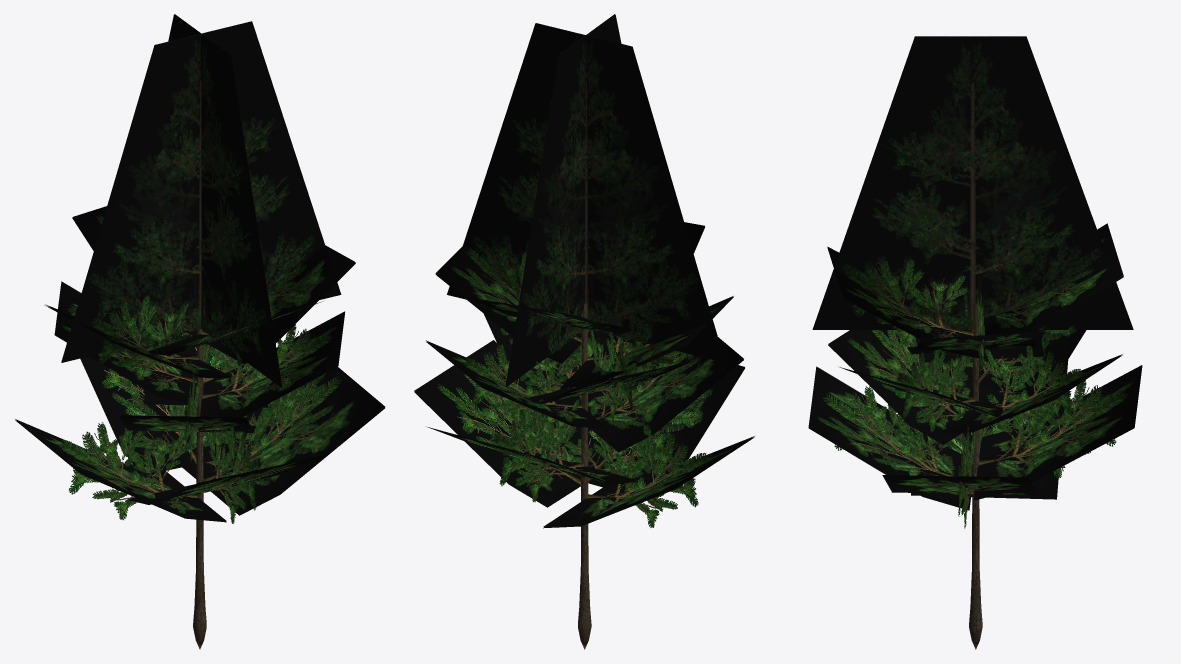
File: ever_endr_babyredwood_l1.fbx
3 views of the same model, side by side, from view 1: azimuth 30°, elevation 25°; view 2: azimuth 150°, elevation 25°; view 3: azimuth 270°, elevation 25° (orthographic).
Visible parts, largest first — view 1: mesh_node; view 2: mesh_node; view 3: mesh_node.
Boxes of the visible parts, x1,y1,x2,y2 form: mesh_node: (15,14,385,649); mesh_node: (414,14,754,649); mesh_node: (808,36,1142,649).
Size of the model in its own units: 5.08 by 8.98 by 5.08.
